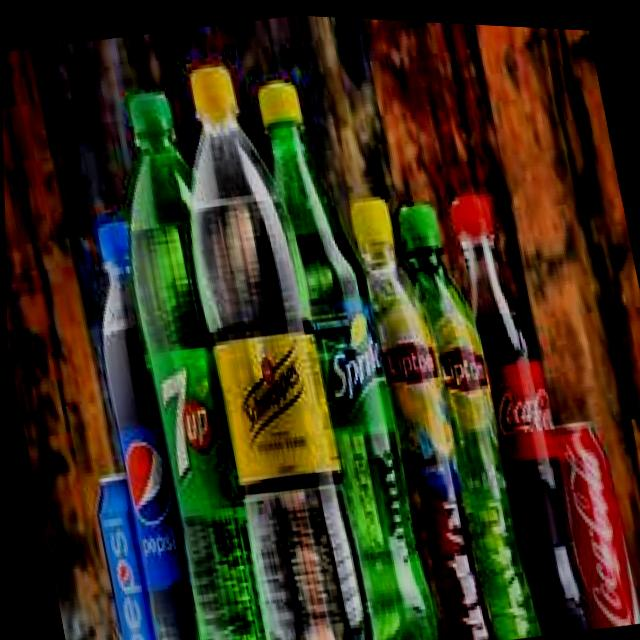Bottles: (137, 29, 376, 640), (79, 58, 308, 640), (227, 32, 440, 640), (313, 161, 505, 640), (359, 166, 545, 640), (410, 173, 596, 640), (53, 181, 217, 640)
